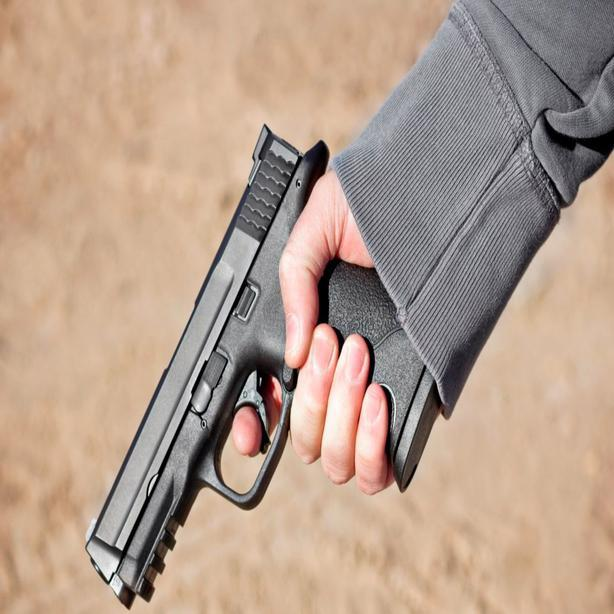Firearm: (73, 103, 490, 609)
